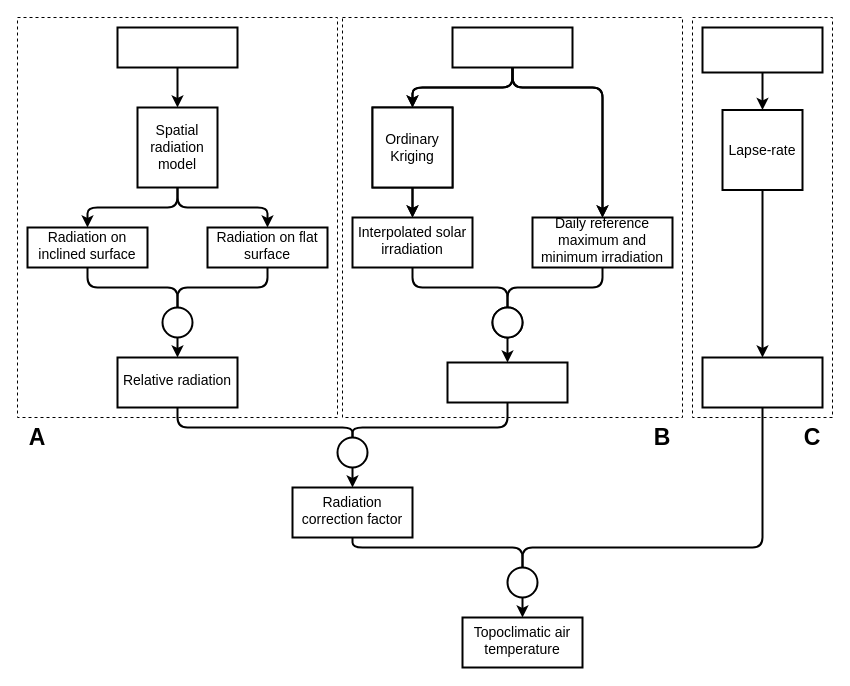
Image size: 850x686. Some labels were removed from this diagram. Each missing label, with the centre of its shape:
"Air temperature on flat surface" belongs at point 762,382.
"Cloud Index" belongs at point 507,382.
"DEM" belongs at point 177,47.
"Measured air temperature" belongs at point 762,49.
"Measured solar irradiation" belongs at point 512,47.
